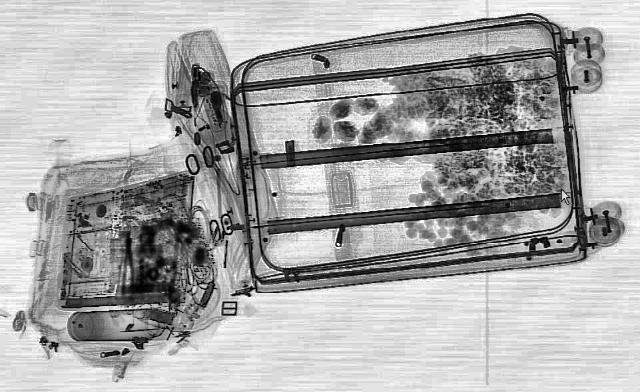Pliers: (118, 238, 136, 294)
